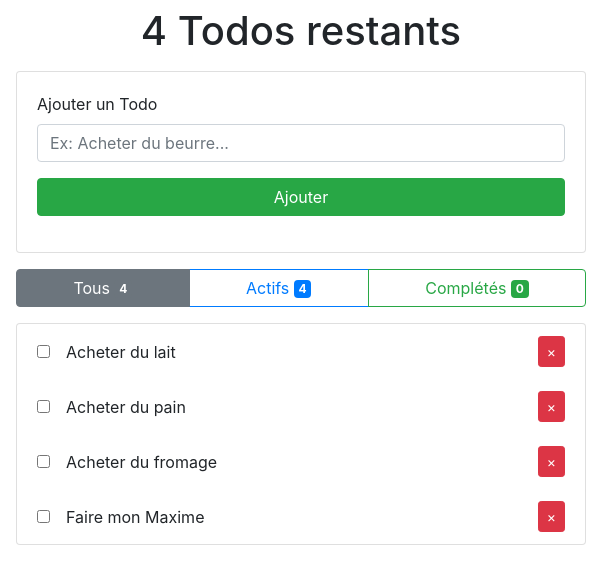
Test case: Filtrage de la liste › affiche le message "Aucun todo" si le filtre Complétés est vide
The width and height of the screenshot is (607, 562).
Step 1. Click the button "Complétés 0" → [477, 288], box [368,269,586,307]
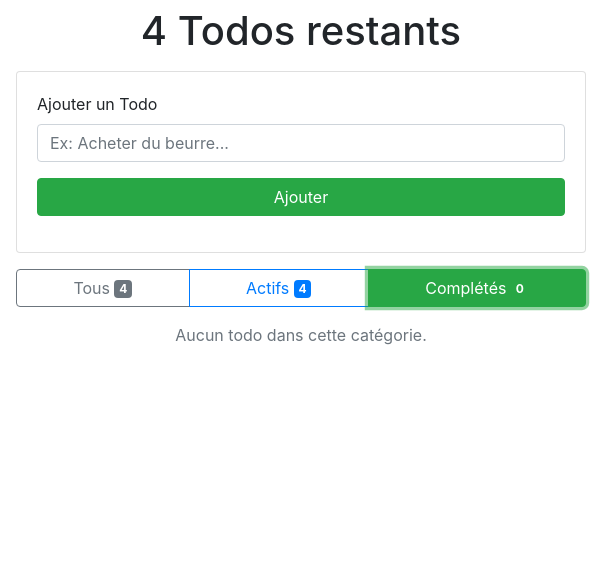
Expected: the text "Aucun todo dans cette catégorie." is shown, [175,325,427,345]
